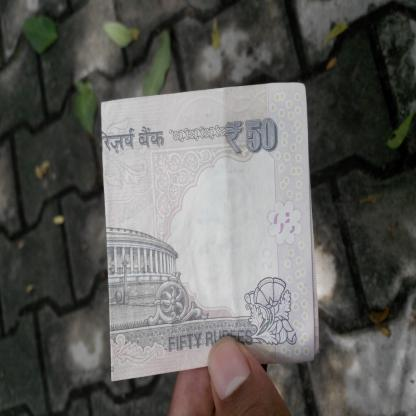Old50Back: (101, 82, 320, 382)
